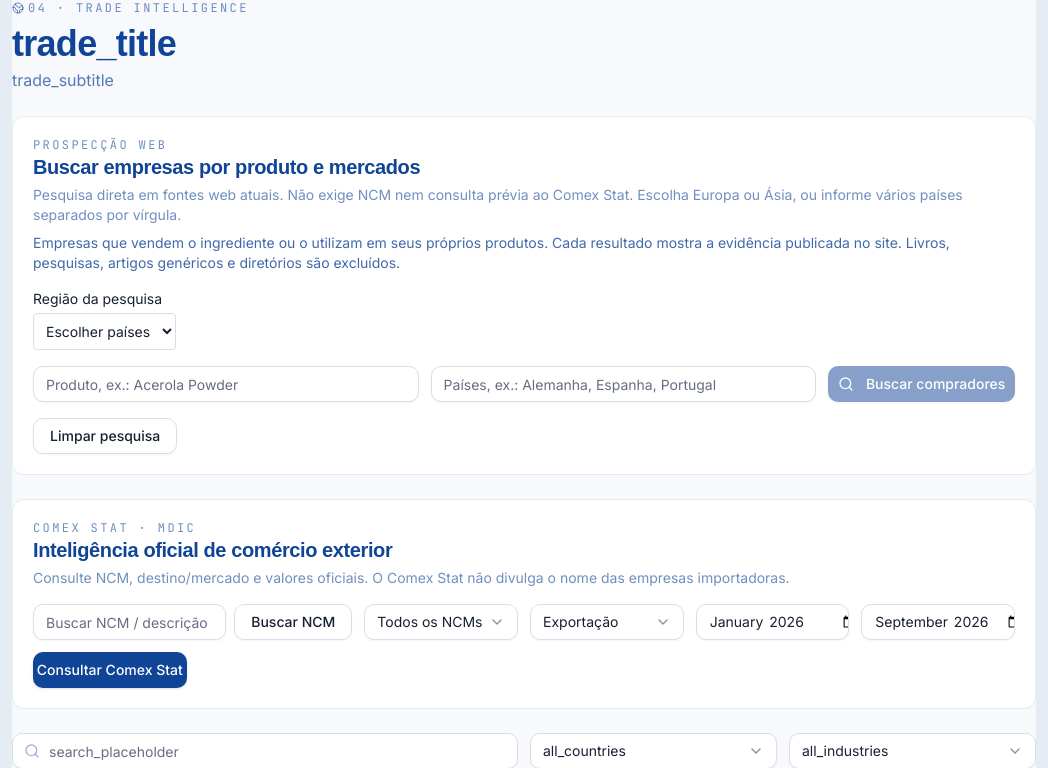
Test case: decision search preserves company source and displays not found
Type "Acerola" into the field with placeholder "Produto, ex.: Acerola Powder". click: x=226, y=384
box: [33,366,419,402]
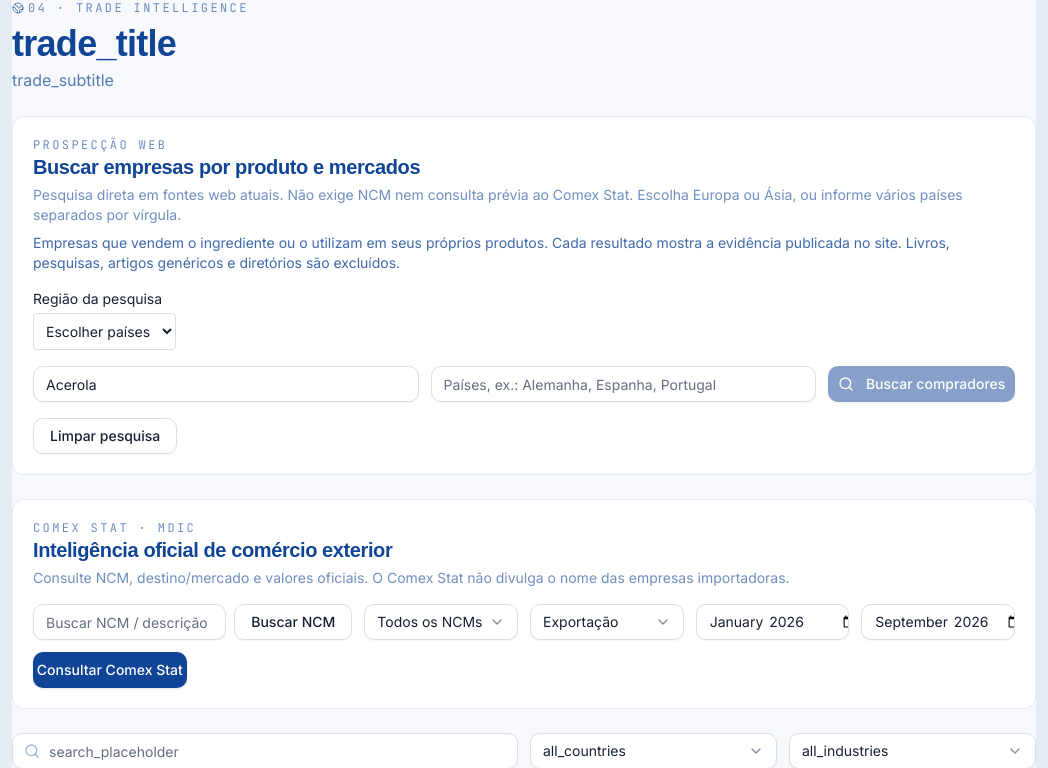
Type "Portugal" into the field with placeholder "Países, ex.: Alemanha, Espanha, Portugal". click: x=623, y=384
box: [431,366,816,402]
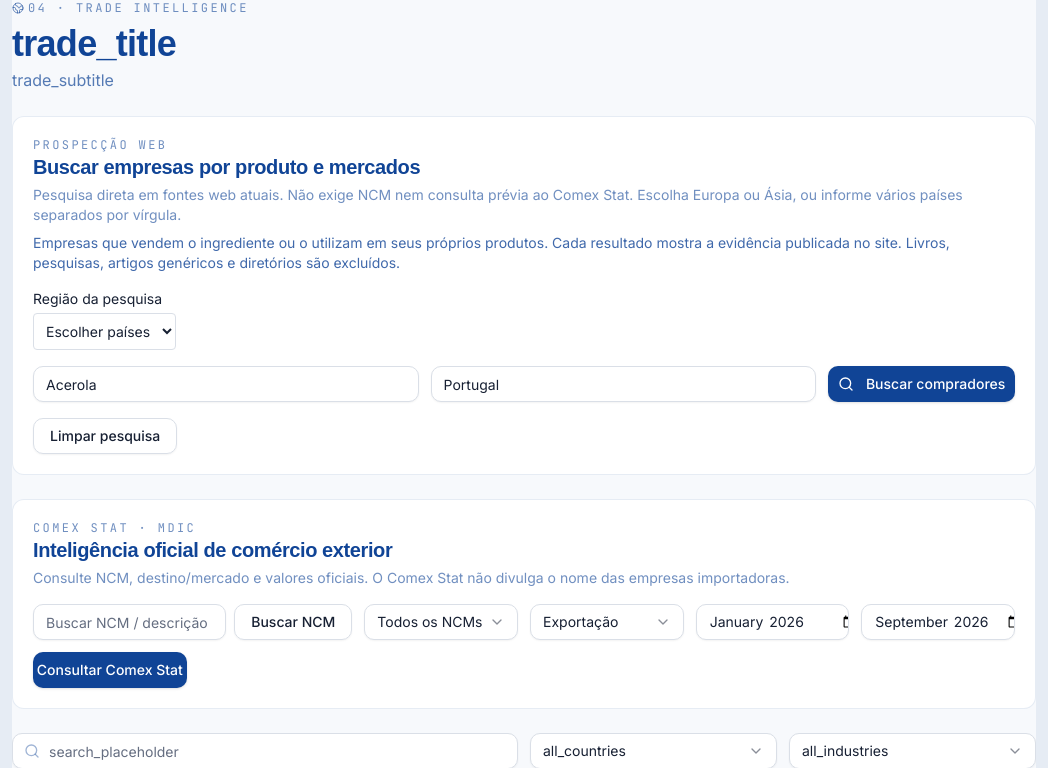
Click the button "Buscar compradores". click: x=922, y=384
box: [828,366,1015,402]
(page scrolled)
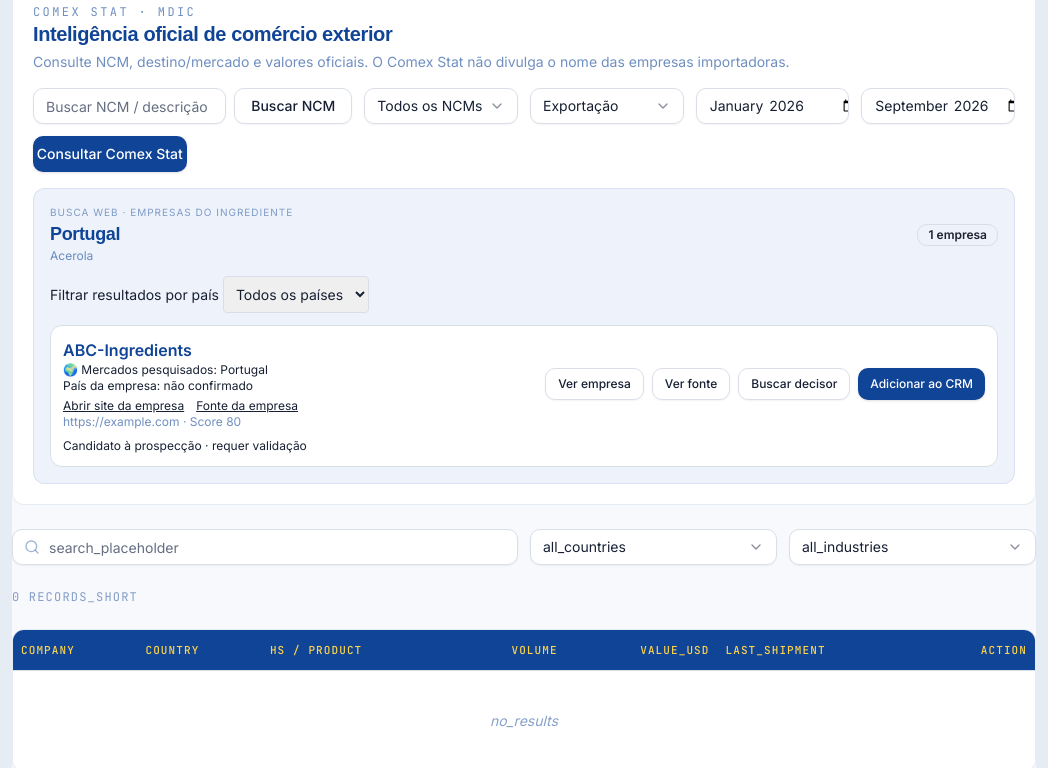
Check: the text "ABC-Ingredients" is shown, box [63,340,192,360]
Click the button "Buscar decisor". click: x=794, y=384
box: [738,368,850,400]
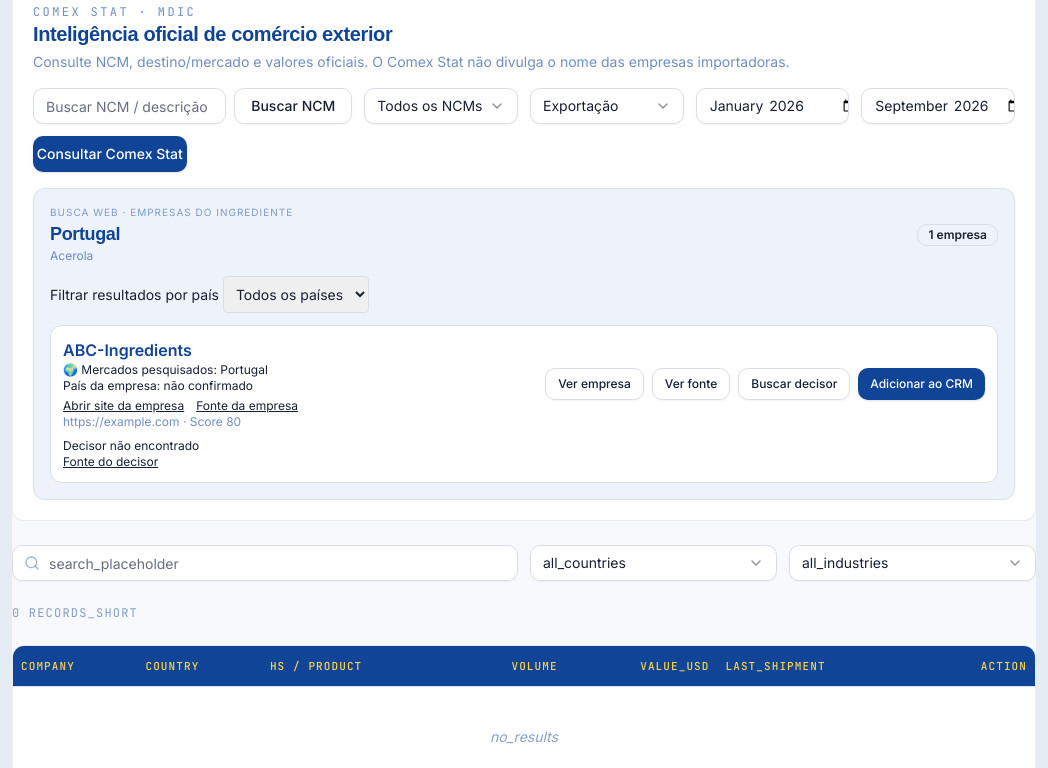
Check: the text "Decisor não encontrado" is shown, box [63,438,199,453]
